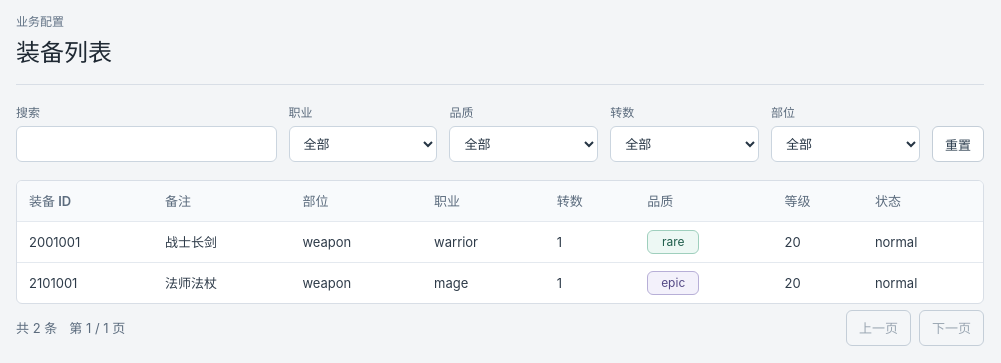
EquipListPage › combines search and filters, then resets back to all rows
Type "长剑" into the search field labelled "搜索". click: {"x": 146, "y": 144}
box: [16, 126, 276, 162]
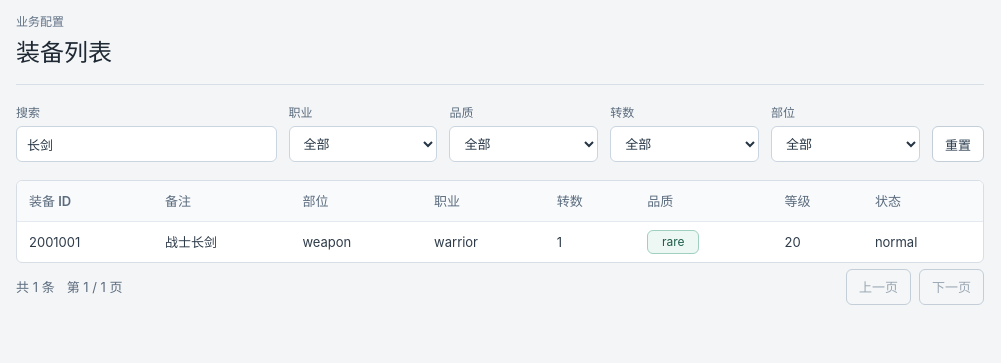
Select "warrior" in the dropdown labelled "职业". click: {"x": 363, "y": 144}
box: [288, 126, 437, 162]
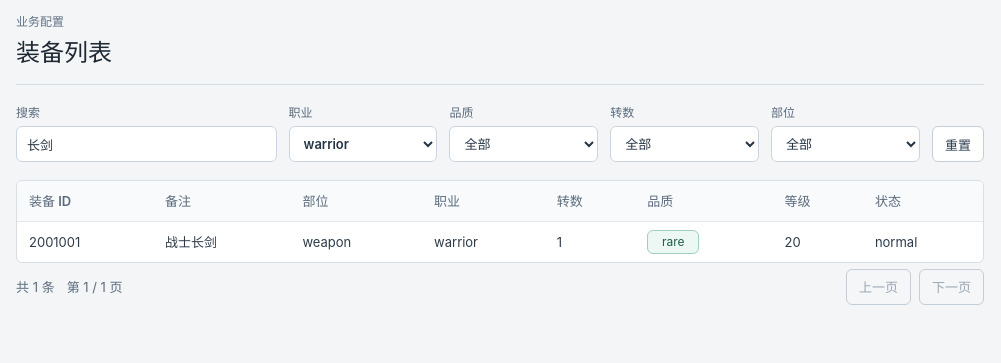
Select "rare" in the dropdown labelled "品质". click: {"x": 524, "y": 144}
box: [449, 126, 598, 162]
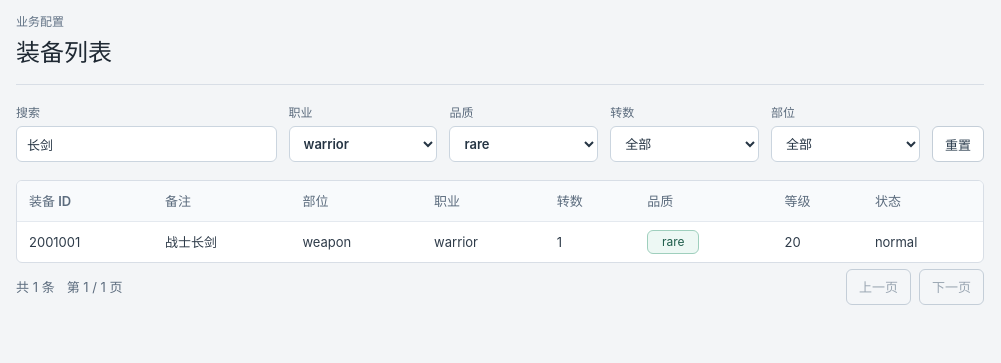
Expected: the cell "2001001" is shown, [17, 221, 153, 262]
Expected: the cell "2101001" is not shown
Click the button "重置". click: {"x": 958, "y": 144}
box: [932, 126, 984, 162]
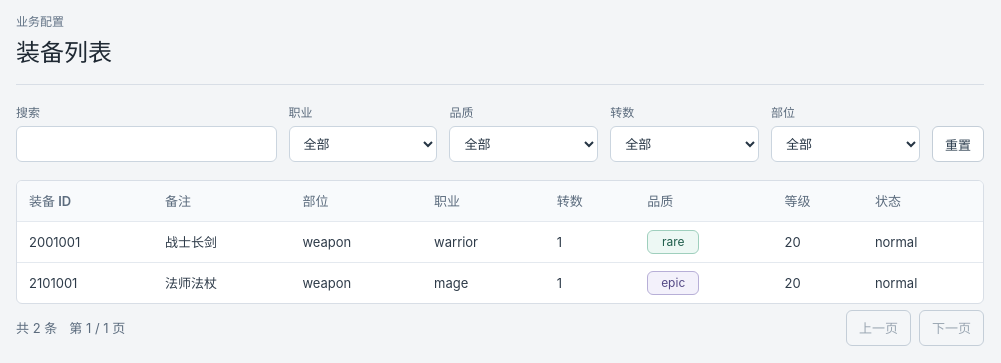
Expected: the cell "2001001" is shown, [17, 221, 153, 262]
Expected: the cell "2101001" is shown, [17, 262, 153, 302]
